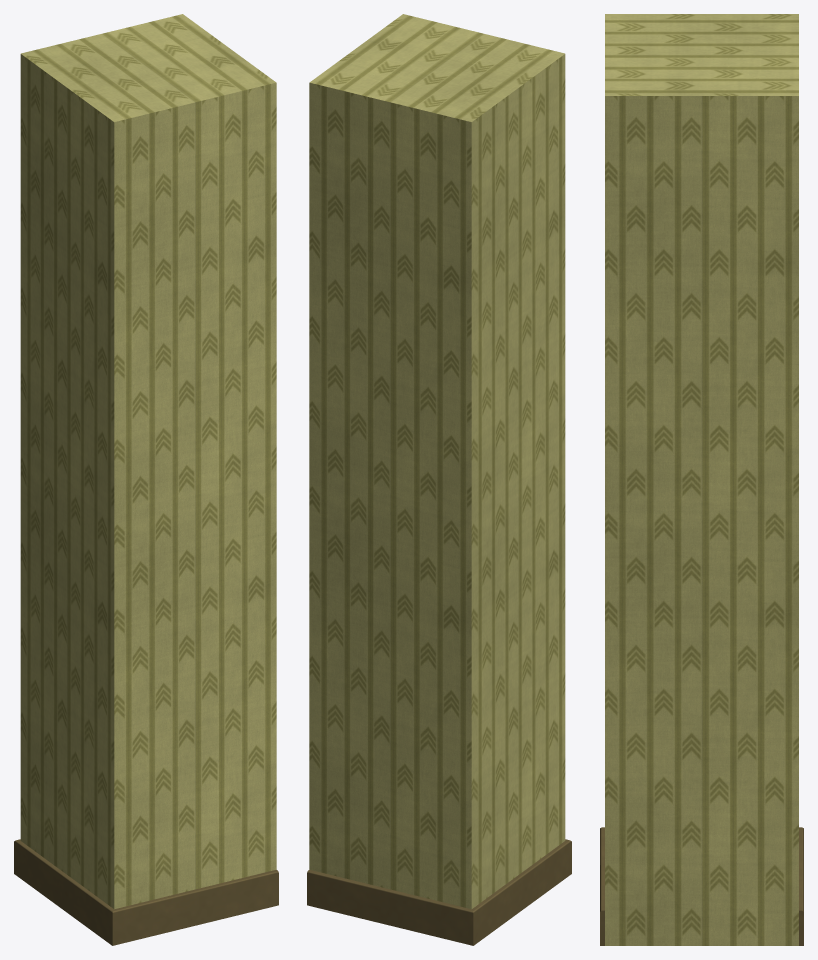
Rendered from SM_L0_Wall_End.fbx.
The picture shows the model from 3 angles, left to right: view 1: azimuth 30°, elevation 25°; view 2: azimuth 150°, elevation 25°; view 3: azimuth 270°, elevation 25°; orthographic projection. The views are drawn at different scales.
Visible parts, largest first — view 1: SM_L0_Wall_End; view 2: SM_L0_Wall_End; view 3: SM_L0_Wall_End.
Part boxes in pixels (x1=…): SM_L0_Wall_End: x1=14, y1=14, x2=278, y2=945; SM_L0_Wall_End: x1=307, y1=14, x2=571, y2=945; SM_L0_Wall_End: x1=600, y1=14, x2=803, y2=945.
Size of what is drawn, in the model's own units: 0.615 by 2.9 by 0.63.
